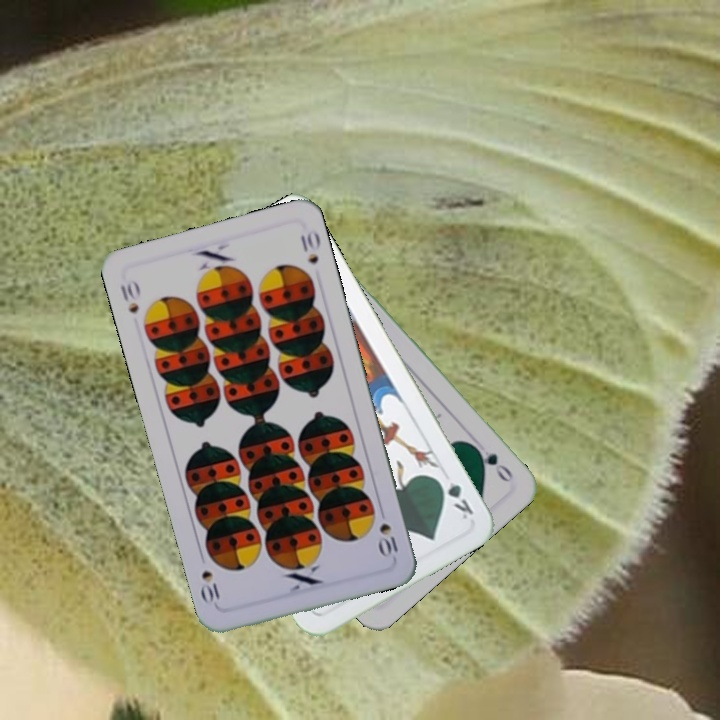GK: (432, 473, 477, 523)
GO: (468, 437, 516, 486)
S10: (375, 503, 401, 561), (116, 274, 143, 316)
